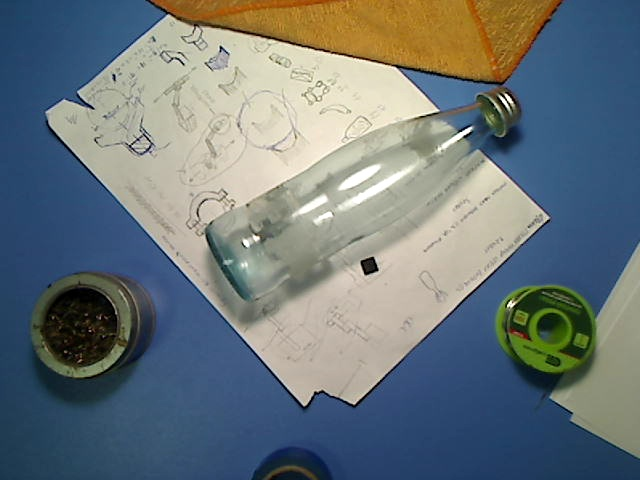bottle: (204, 85, 524, 302)
